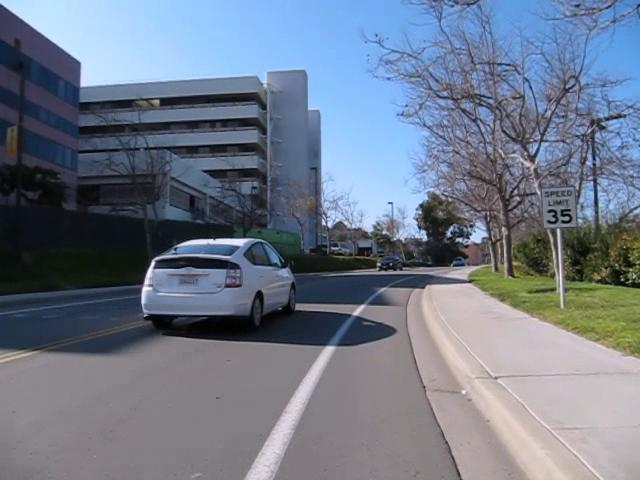speedLimit35: (540, 184, 578, 229)
